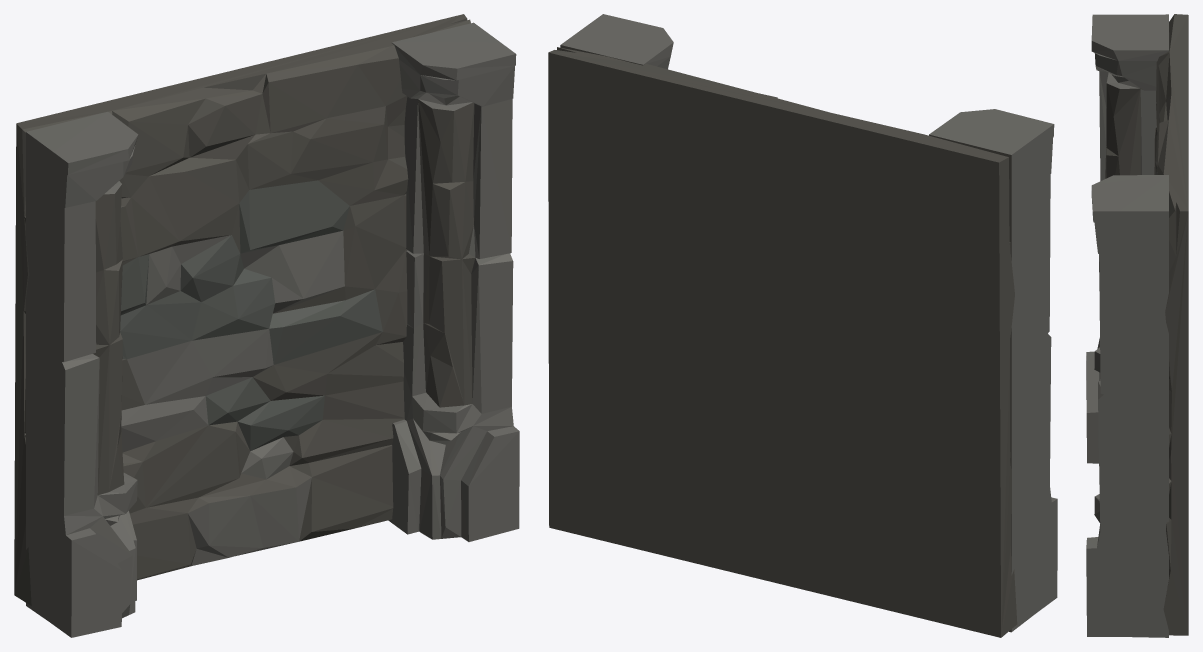
The model's file is MDungeon_Walls_PillarMid_01.FBX.
3 views of the same model, side by side, from view 1: azimuth 30°, elevation 25°; view 2: azimuth 150°, elevation 25°; view 3: azimuth 270°, elevation 25° (orthographic). The views are drawn at different scales.
Parts seen in each view (by area): view 1: MDungeon_Walls_PillarMid_01_LOD0; view 2: MDungeon_Walls_PillarMid_01_LOD0; view 3: MDungeon_Walls_PillarMid_01_LOD0.
Boxes of the visible parts, box(x1,y1,x2,y2) form: MDungeon_Walls_PillarMid_01_LOD0: box(14, 14, 519, 637); MDungeon_Walls_PillarMid_01_LOD0: box(548, 14, 1057, 637); MDungeon_Walls_PillarMid_01_LOD0: box(1086, 14, 1188, 637).
Size of what is drawn, in the model's own units: 6.01 by 6.05 by 1.32.
